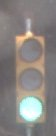Green: (14, 29, 56, 123)
